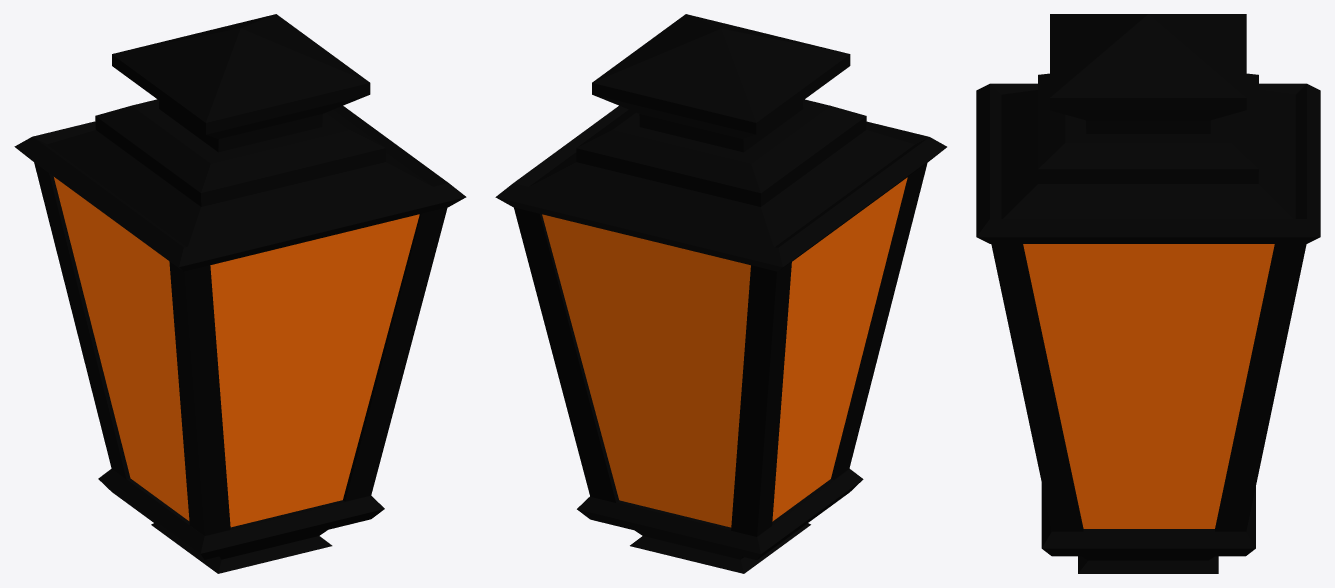
The model's file is alarm_orange.glb.
3 views of the same model, side by side, from view 1: azimuth 30°, elevation 25°; view 2: azimuth 150°, elevation 25°; view 3: azimuth 270°, elevation 25° (orthographic). The views are drawn at different scales.
Parts seen in each view (by area): view 1: Torus.001; view 2: Torus.001; view 3: Torus.001.
Part boxes in pixels (x1,y1,x2,y2): Torus.001: (14,14,466,573); Torus.001: (495,14,946,573); Torus.001: (976,14,1320,573).
Size of the model in its own units: 2.21 by 3.93 by 2.19.
